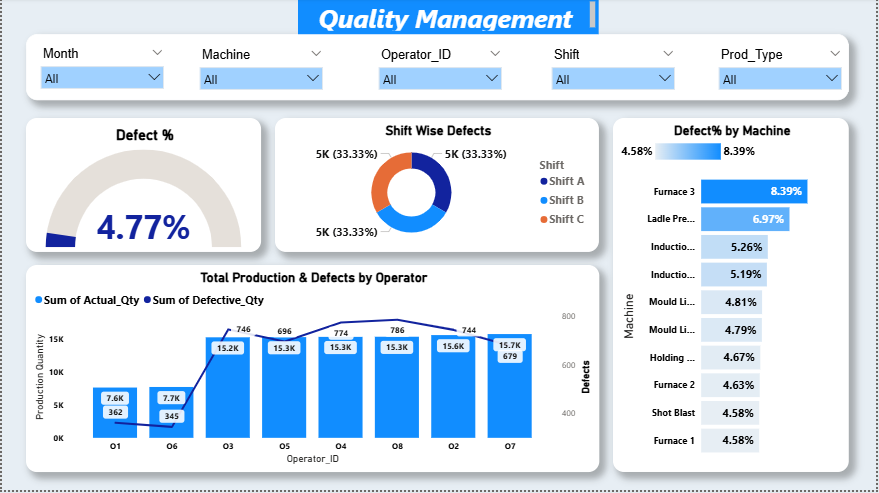

What the dashboard file says about the page in this screenshot:
{"tool":"powerbi","page":{"name":"Page 2","canvas":[1280,720],"ordinal":1},"visuals":[{"type":"textbox","box":[35.1,52.7,1204.4,96.6],"z":0},{"type":"slicer","fields":{"Values":["Machine.Machine"]},"box":[279.5,67.7,200,70.2],"z":1000},{"type":"slicer","fields":{"Values":["Production.Operator_ID"]},"box":[541.5,67.7,200,70.2],"z":2000},{"type":"slicer","fields":{"Values":["Production.Shift"]},"box":[794.6,67.7,200,70.2],"z":3000},{"type":"slicer","fields":{"Values":["Product.Prod_Type"]},"box":[1039,67.7,200,70.2],"z":4000},{"type":"gauge","title":"Defect %","fields":{"Y":["Quality.Defect%"]},"box":[35.1,175.6,343.9,196.1],"z":5000},{"type":"donutChart","title":"Shift Wise Defects","fields":{"Category":["Production.Shift"],"Y":["Sum(Quality.Defective_Qty)"]},"box":[399.5,175.6,474.1,196.1],"z":6000},{"type":"lineClusteredColumnComboChart","title":"Total Production & Defects by Operator","fields":{"Y":["Sum(Production.Actual_Qty)"],"Y2":["Sum(Quality.Defective_Qty)"],"Category":["Dim_Operator.Operator_ID"]},"box":[35.1,390.7,838.5,302.9],"z":7000},{"type":"barChart","fields":{"Category":["Machine.Machine"],"Y":["Quality.Defect%"]},"box":[894.1,175.6,345.4,518],"z":8000},{"type":"textbox","box":[433.2,0,440.5,52.7],"z":9000},{"type":"slicer","fields":{"Values":["Dim_DateTable.Month Name"]},"box":[46.8,65.9,200.5,70.2],"z":10000}]}

Visuals, with their boxes in screenshot pixels (x1, y1, x2, y2), scaled from the page's 1280x720 canvas onto the 879x493 screenshot:
textbox: 24,36,851,102
slicer - Machine.Machine: 192,46,329,94
slicer - Production.Operator_ID: 372,46,509,94
slicer - Production.Shift: 546,46,683,94
slicer - Product.Prod_Type: 714,46,851,94
"Defect %" gauge: 24,120,260,255
"Shift Wise Defects" donutChart: 274,120,600,255
"Total Production & Defects by Operator" lineClusteredColumnComboChart: 24,268,600,475
barChart - Machine.Machine x Quality.Defect%: 614,120,851,475
textbox: 297,0,600,36
slicer - Dim_DateTable.Month Name: 32,45,170,93
